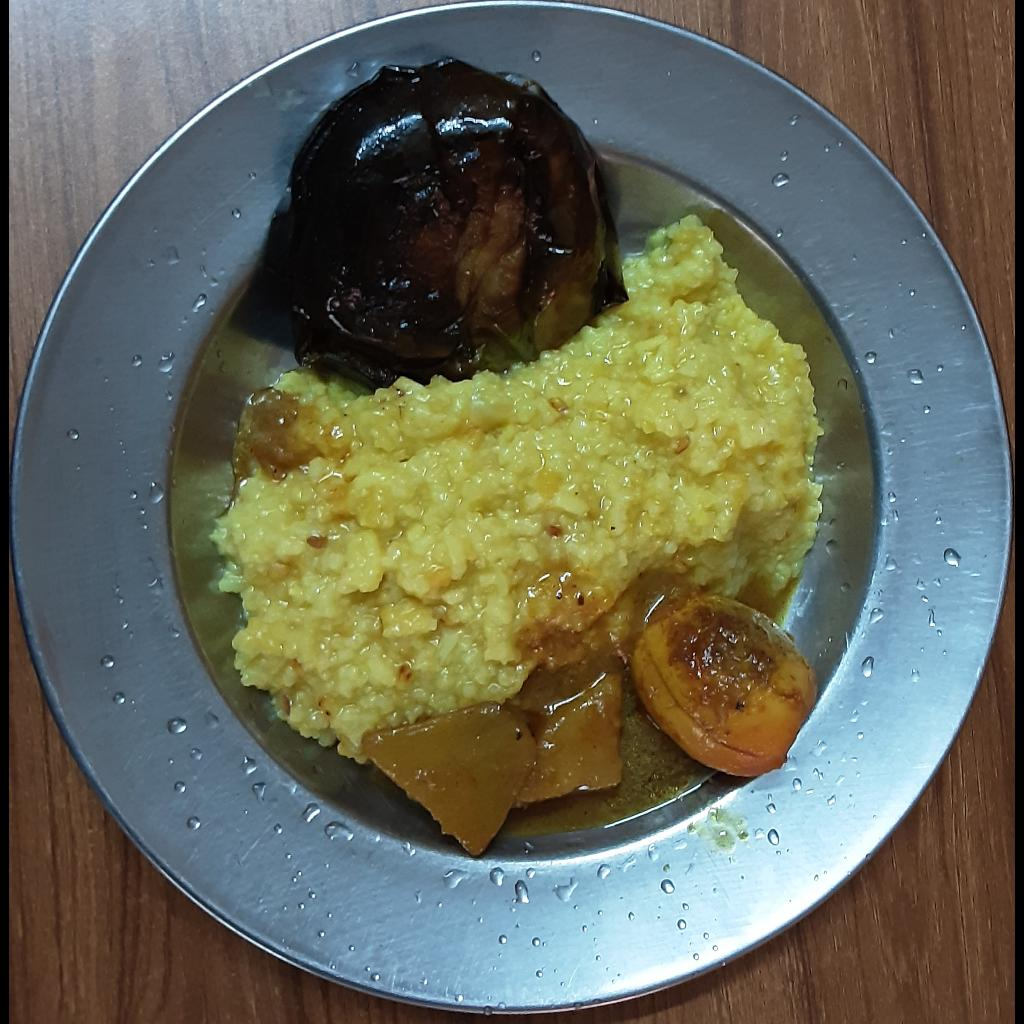begun-vaji: (263, 59, 626, 386)
egg-boiled: (627, 594, 819, 776)
khichuri: (207, 220, 830, 778)
potato: (361, 657, 623, 856)
